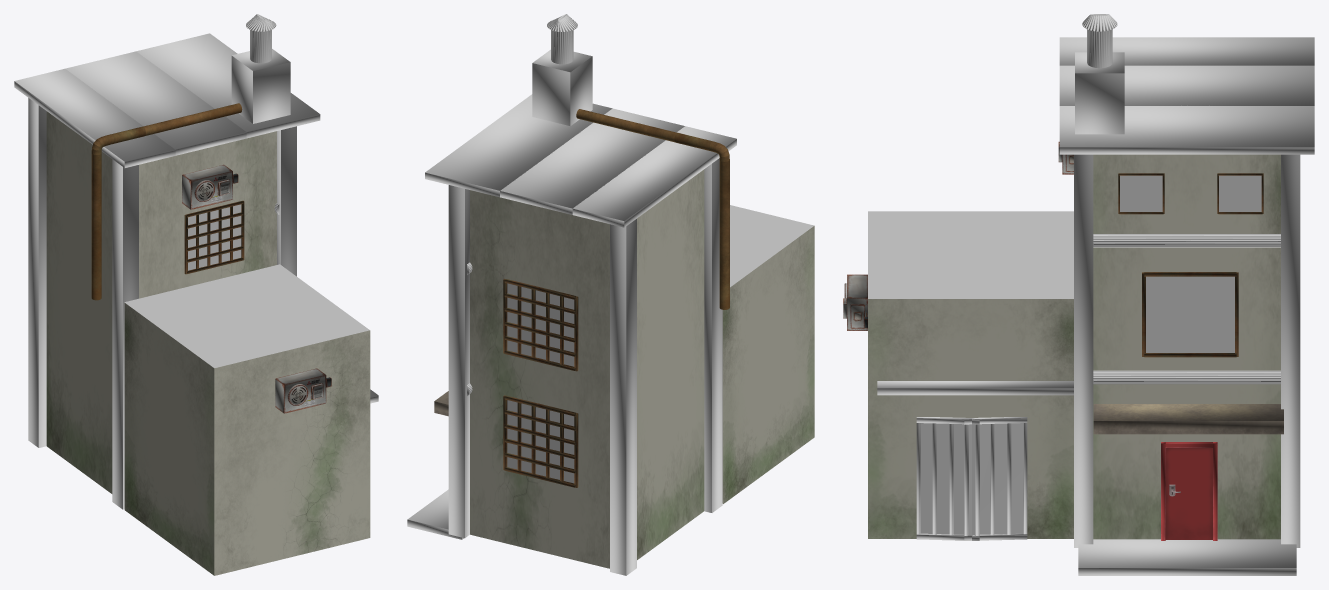
File: Nha 3.2.fbx
The picture shows the model from 3 angles, left to right: view 1: azimuth 30°, elevation 25°; view 2: azimuth 150°, elevation 25°; view 3: azimuth 270°, elevation 25°; orthographic projection. The views are drawn at different scales.
Visible parts, largest first — view 1: nen nha.008; view 2: nen nha.008; view 3: nen nha.008.
Part boxes in pixels (bbox=[...]): nen nha.008: bbox=[14, 14, 378, 575]; nen nha.008: bbox=[407, 14, 814, 575]; nen nha.008: bbox=[843, 14, 1314, 575].
Size of the model in its own units: 774 by 1438 by 1174.
